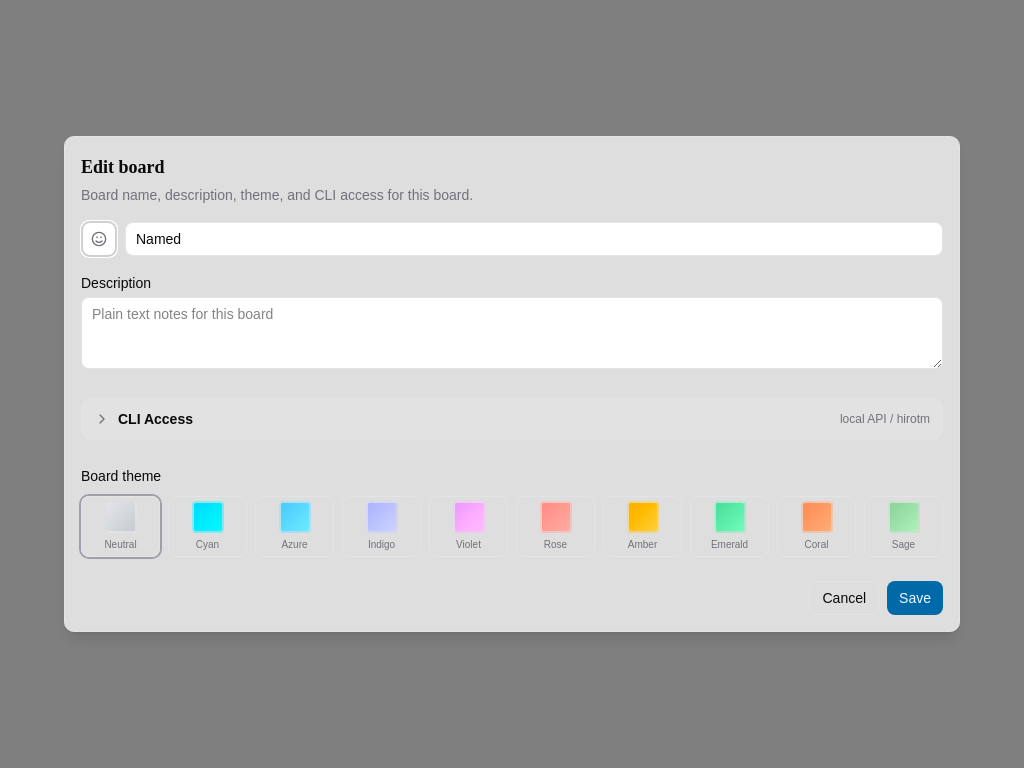
Scenario: BoardEditDialog › disables Save when the name is empty
Step 1. Clear the field named "Board name" → (534, 239), box [125, 222, 943, 256]
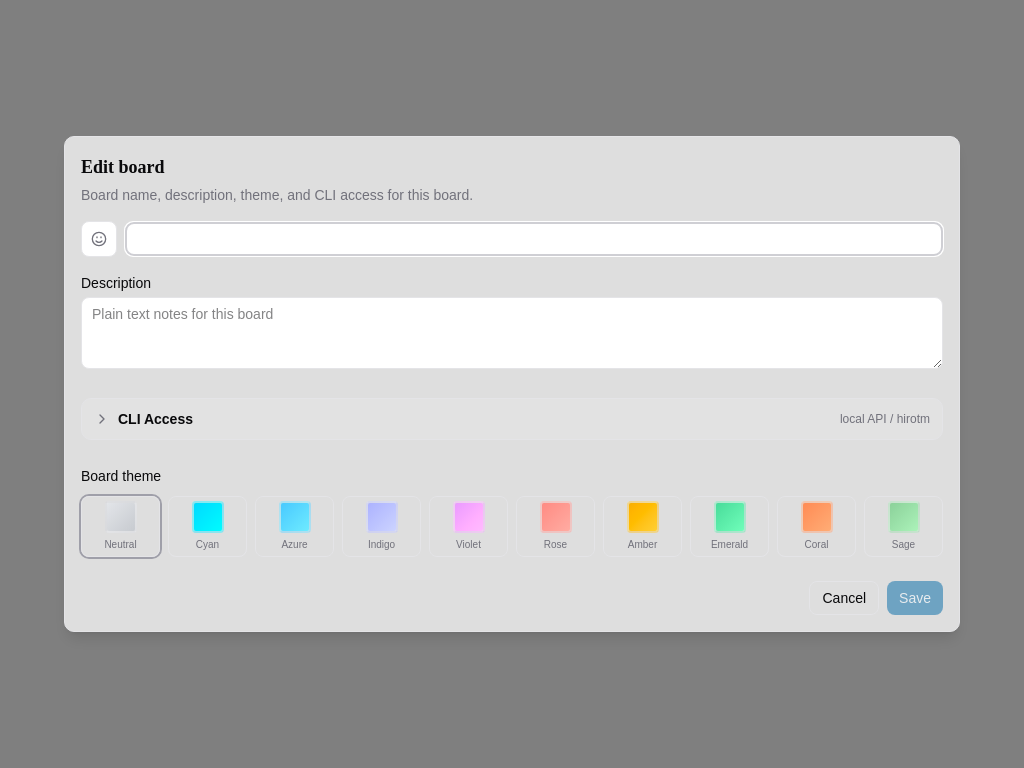
Expected: the button "Save" is disabled, [887, 581, 943, 615]
